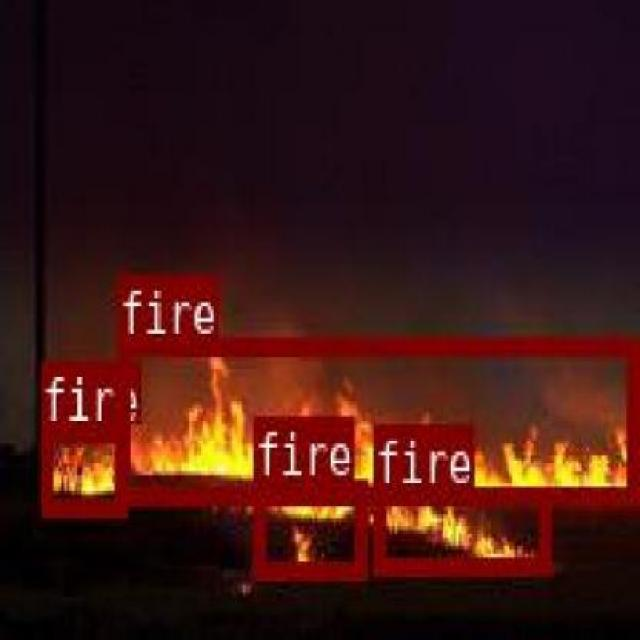Fire: (116, 334, 635, 500), (372, 483, 548, 572), (251, 478, 364, 574), (40, 421, 126, 514)
